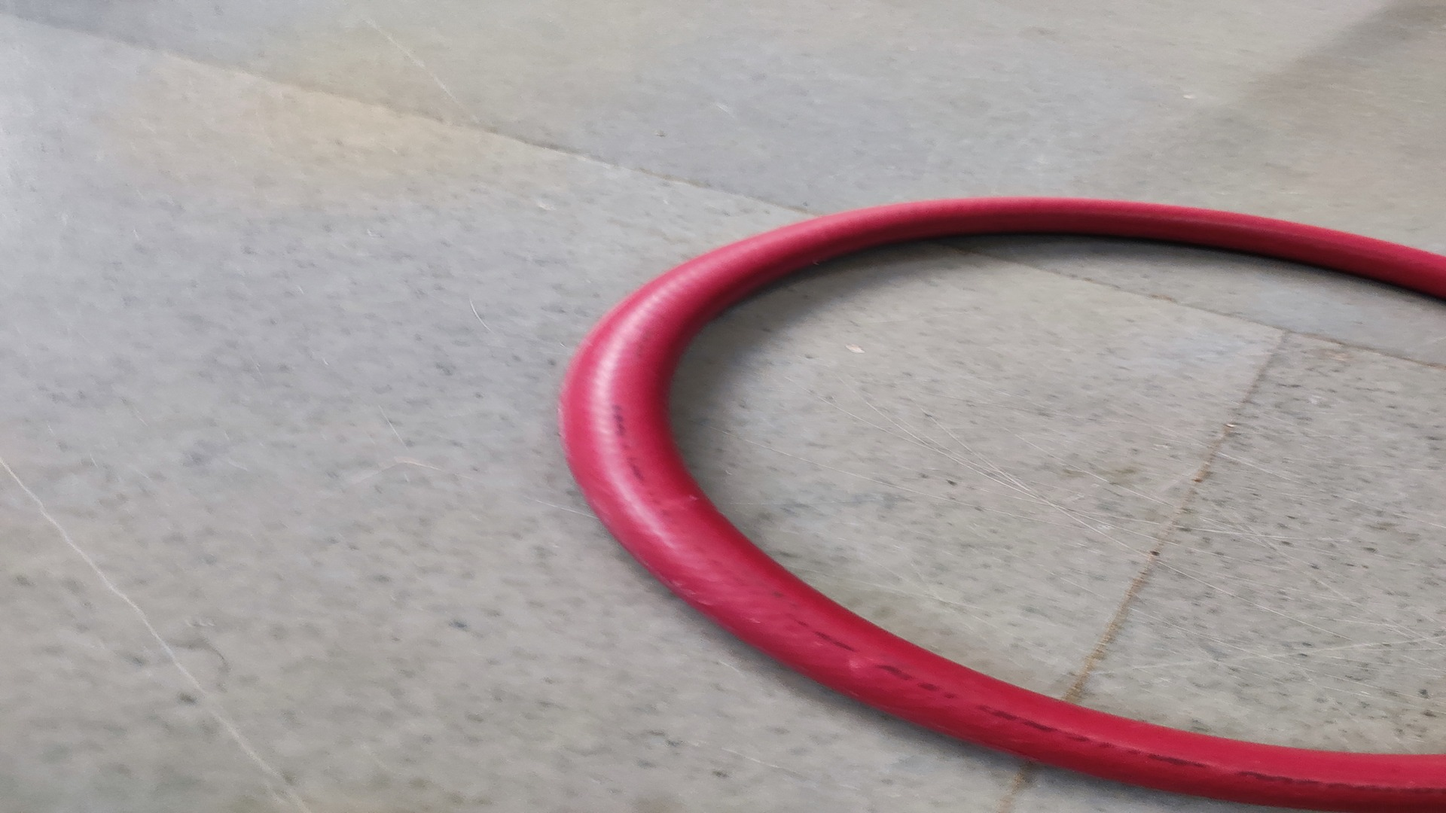Red ring: (566, 194, 1446, 806)
